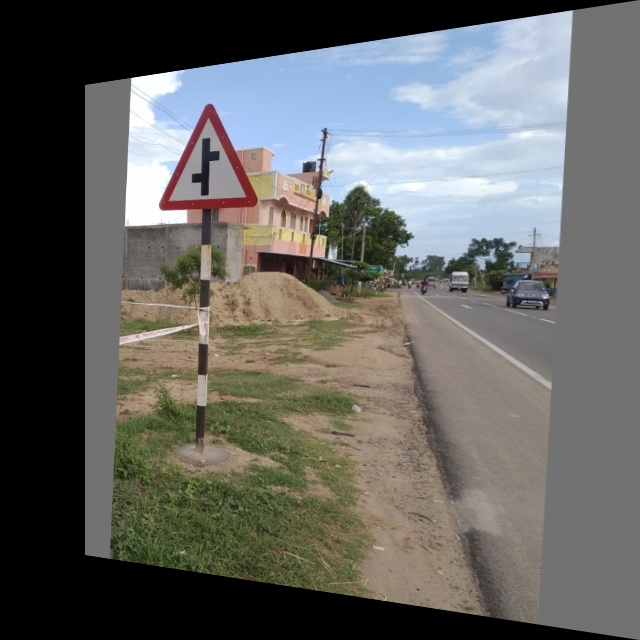Staggered_Intersection: (160, 84, 264, 221)
